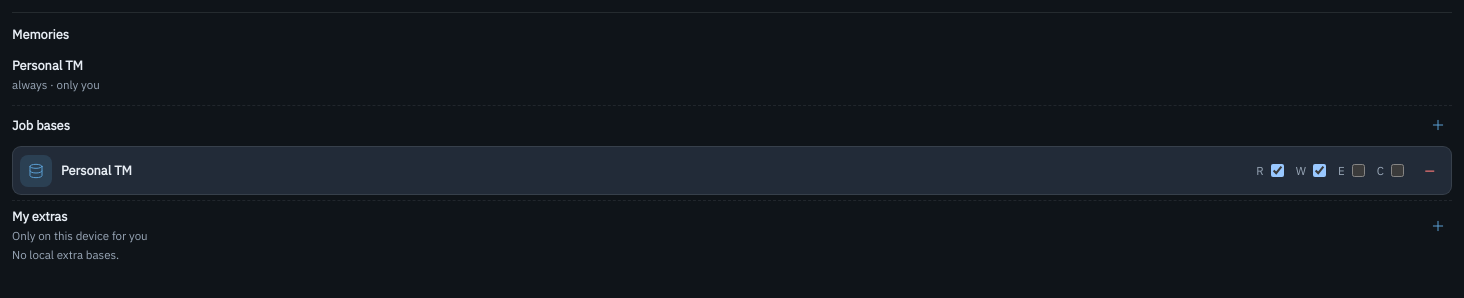
Test: JobMemoriesPanel › keeps a mutation error visible after refreshing shared attachments
Click the checkbox with test id "job-tm-shared-read": [1277, 171] box [1271,164,1284,177]
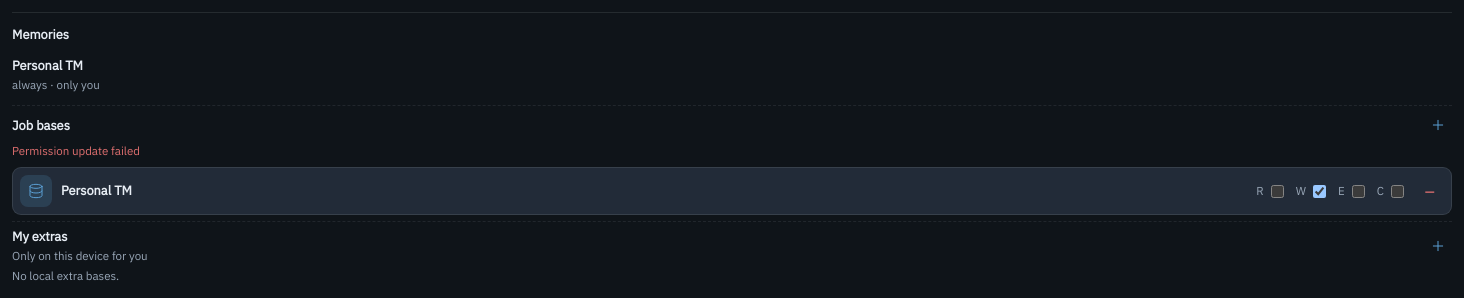
expect the text "Permission update failed" is shown: met, box [12,143,140,158]
